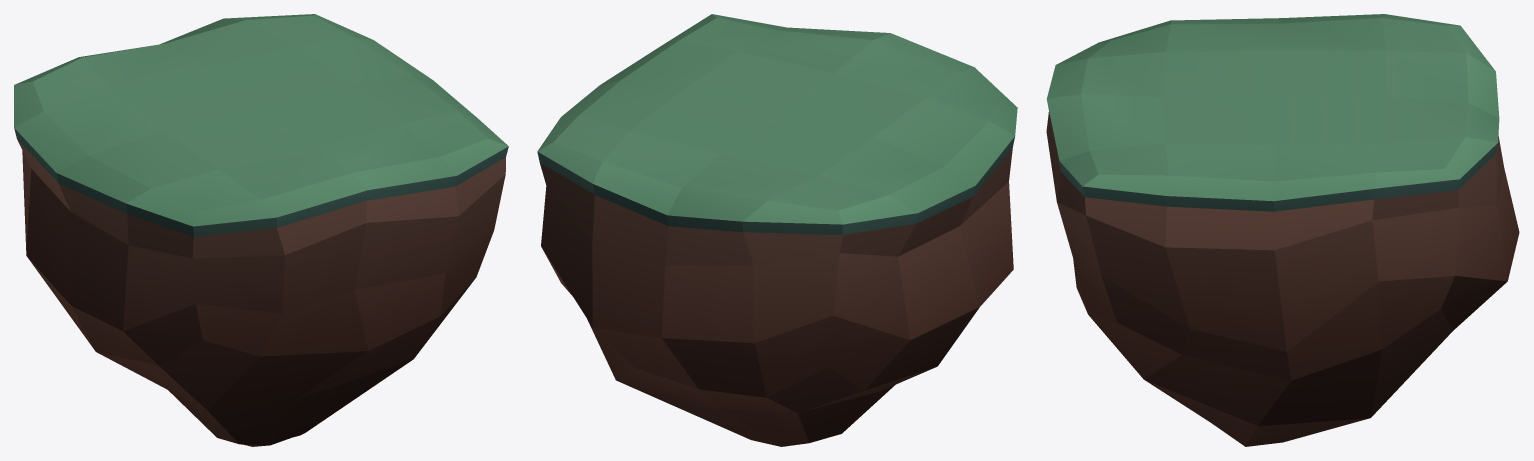
File: islandS.fbx
3 renders of one model, left to right at view 1: azimuth 30°, elevation 25°; view 2: azimuth 150°, elevation 25°; view 3: azimuth 270°, elevation 25°, orthographic. The views are drawn at different scales.
Visible parts, largest first — view 1: IslandS; view 2: IslandS; view 3: IslandS.
Boxes of the visible parts, bbox=[...] form: IslandS: bbox=[14, 14, 508, 446]; IslandS: bbox=[537, 14, 1017, 446]; IslandS: bbox=[1046, 14, 1519, 446].
Bounding box in the file's own units: 5.17 × 4.27 × 5.38.
